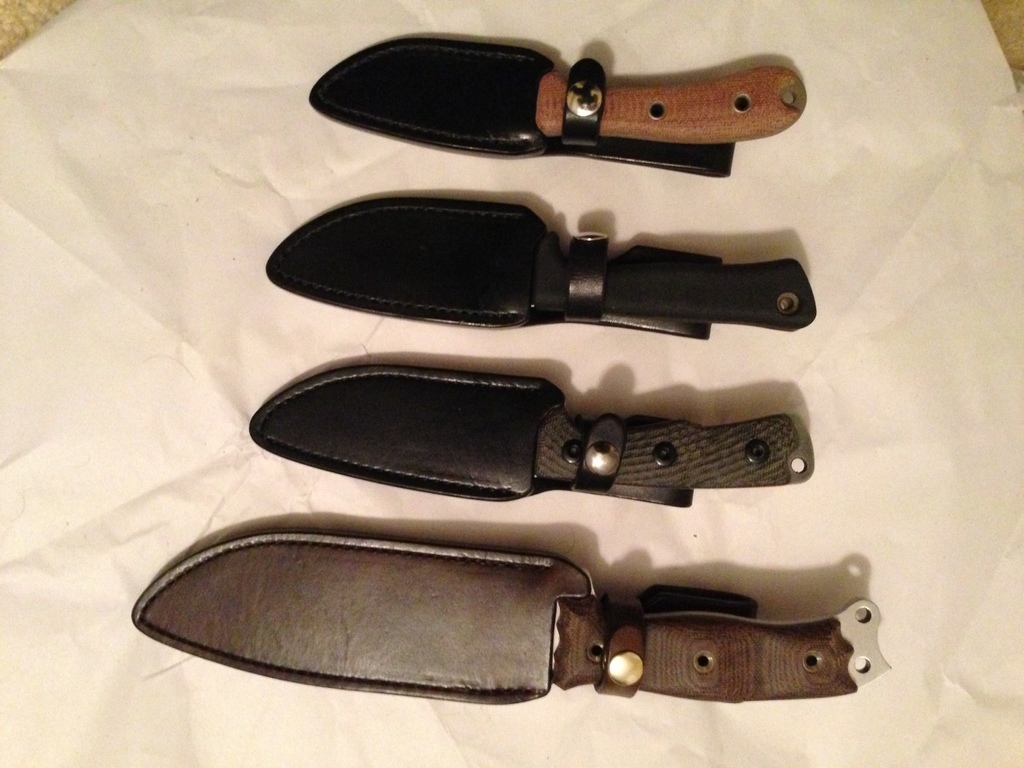knife: (129, 530, 890, 706), (264, 194, 819, 339), (249, 366, 815, 507), (307, 37, 807, 175)
